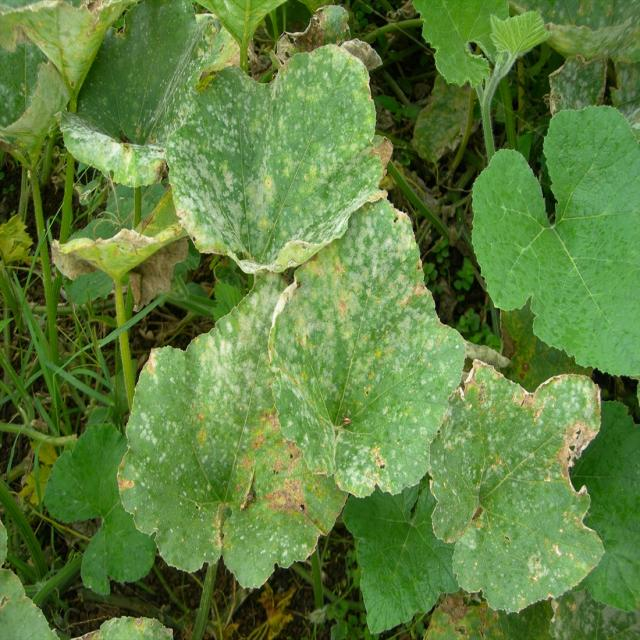Powdery Mildew: (266, 194, 466, 498), (163, 40, 384, 274)
